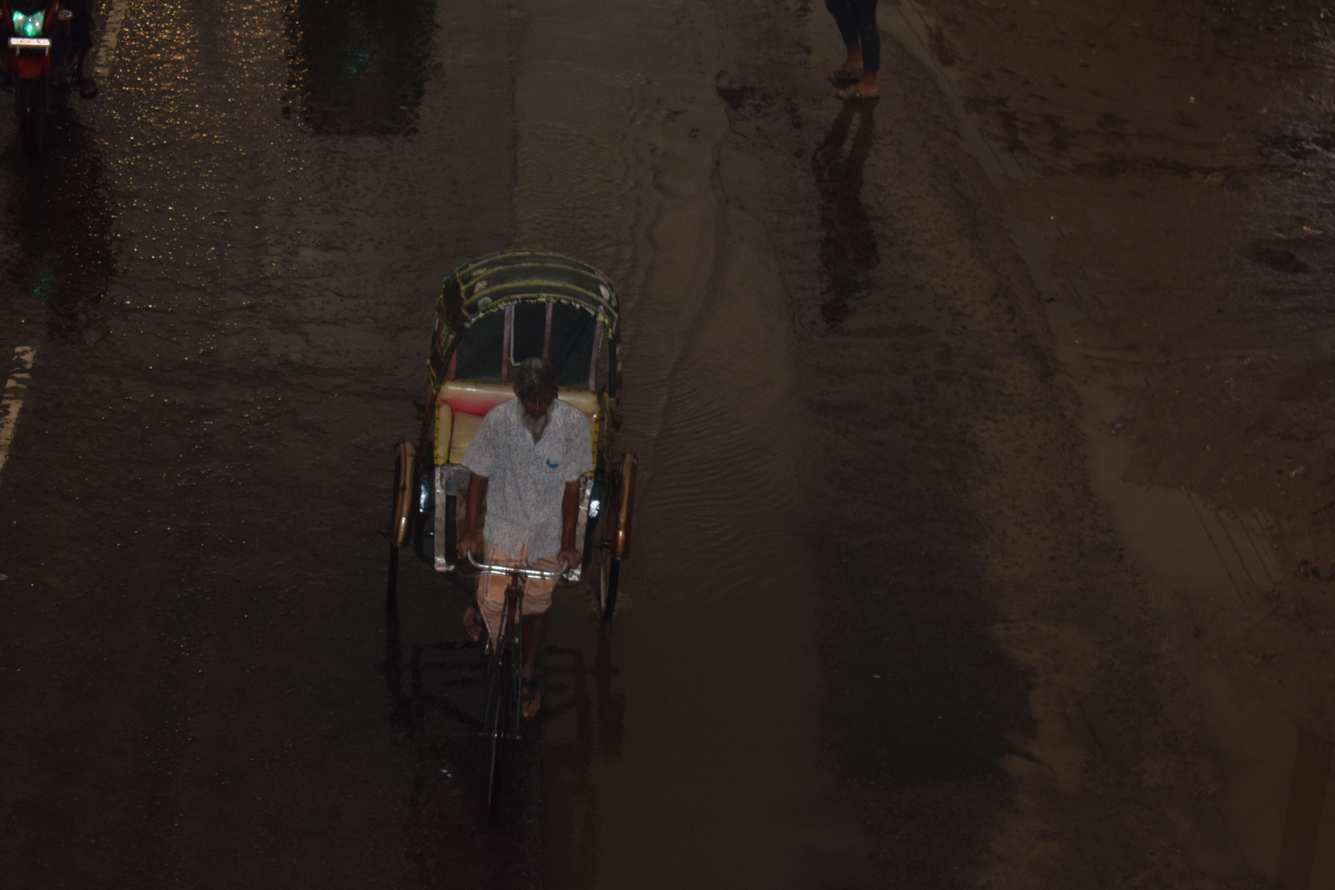Car: (354, 192, 658, 847)
